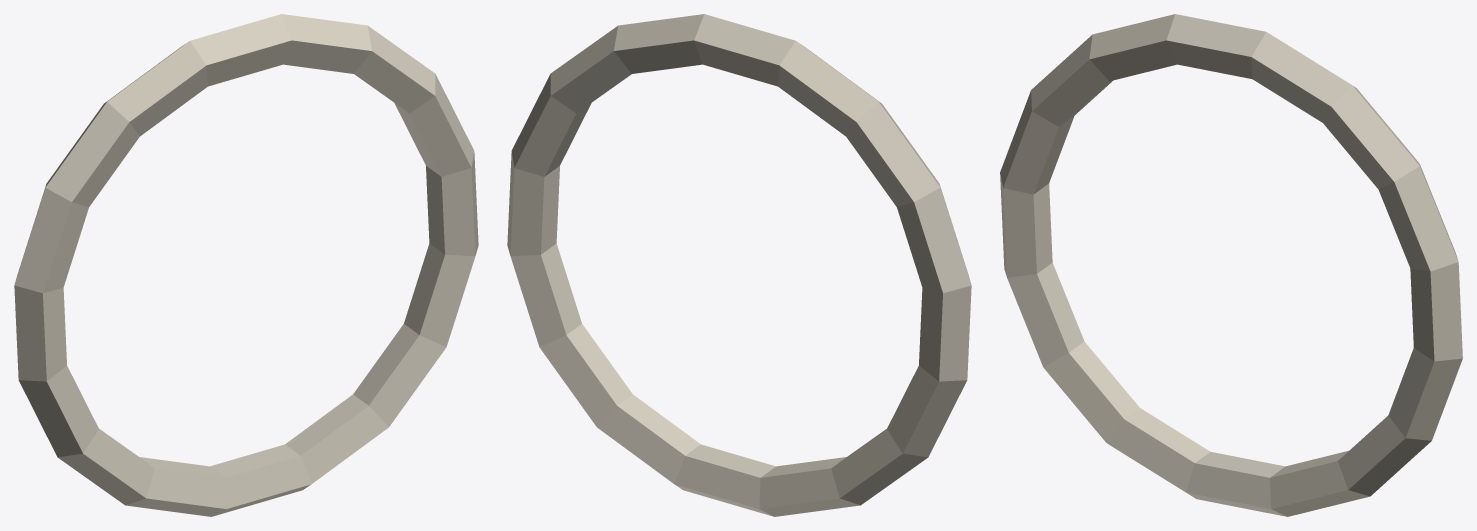
File: ring.glb
3 views of the same model, side by side, from view 1: azimuth 30°, elevation 25°; view 2: azimuth 150°, elevation 25°; view 3: azimuth 330°, elevation 25° (orthographic).
Visible parts, largest first — view 1: ring; view 2: ring; view 3: ring.
Part boxes in pixels (x1,y1,x2,y2): ring: (14, 14, 478, 516); ring: (507, 14, 971, 516); ring: (1000, 14, 1462, 516).
Size of the model in its own units: 0.3159 by 0.3159 by 0.03.
